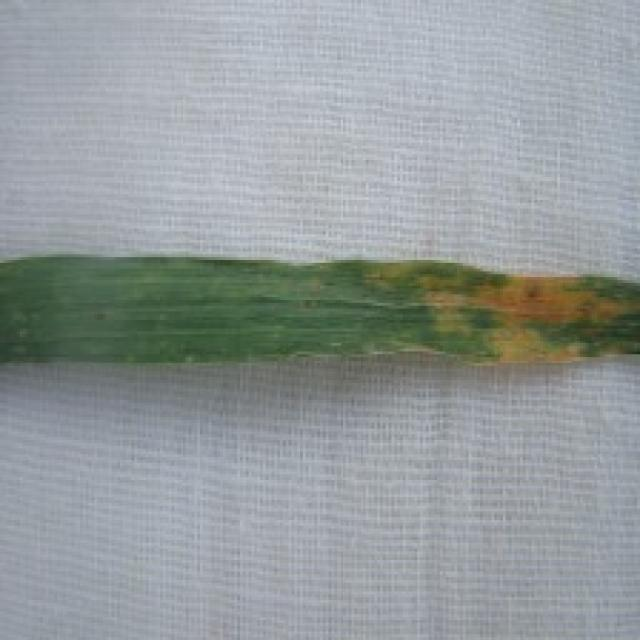Bacterial_Blight: (376, 262, 640, 366)
